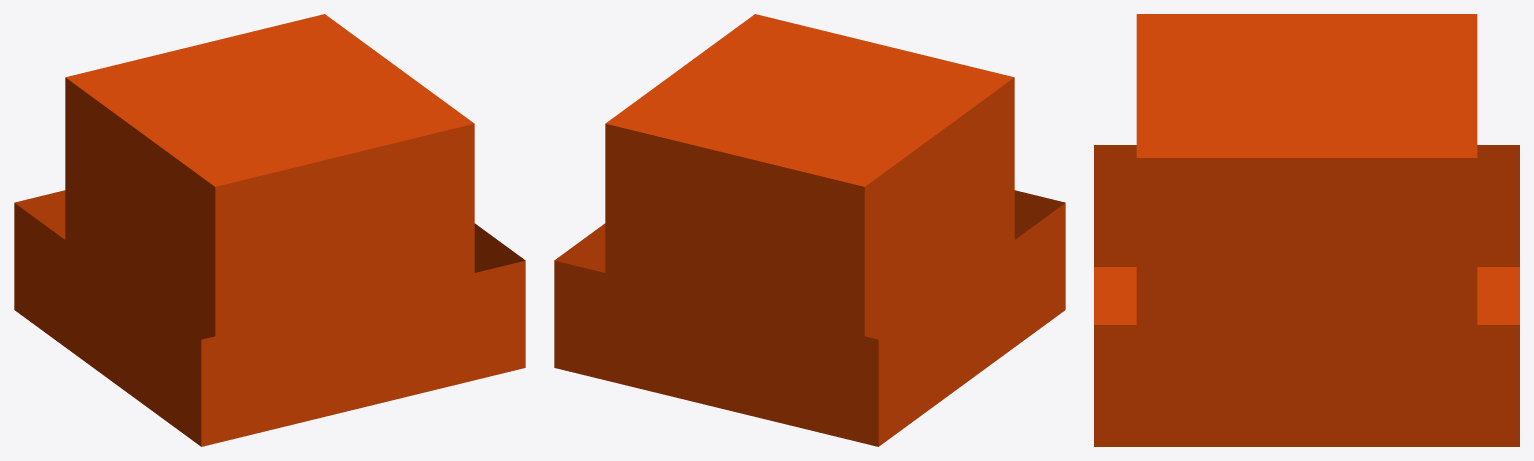
File: Button.fbx
3 renders of one model, left to right at view 1: azimuth 30°, elevation 25°; view 2: azimuth 150°, elevation 25°; view 3: azimuth 270°, elevation 25°, orthographic. The views are drawn at different scales.
Parts seen in each view (by area): view 1: pPlane1; view 2: pPlane1; view 3: pPlane1.
Boxes of the visible parts, x1,y1,x2,y2 form: pPlane1: [14, 14, 525, 446]; pPlane1: [554, 14, 1065, 446]; pPlane1: [1094, 14, 1519, 446].
Bounding box in the file's own units: 30.64 × 21.52 × 30.64.
